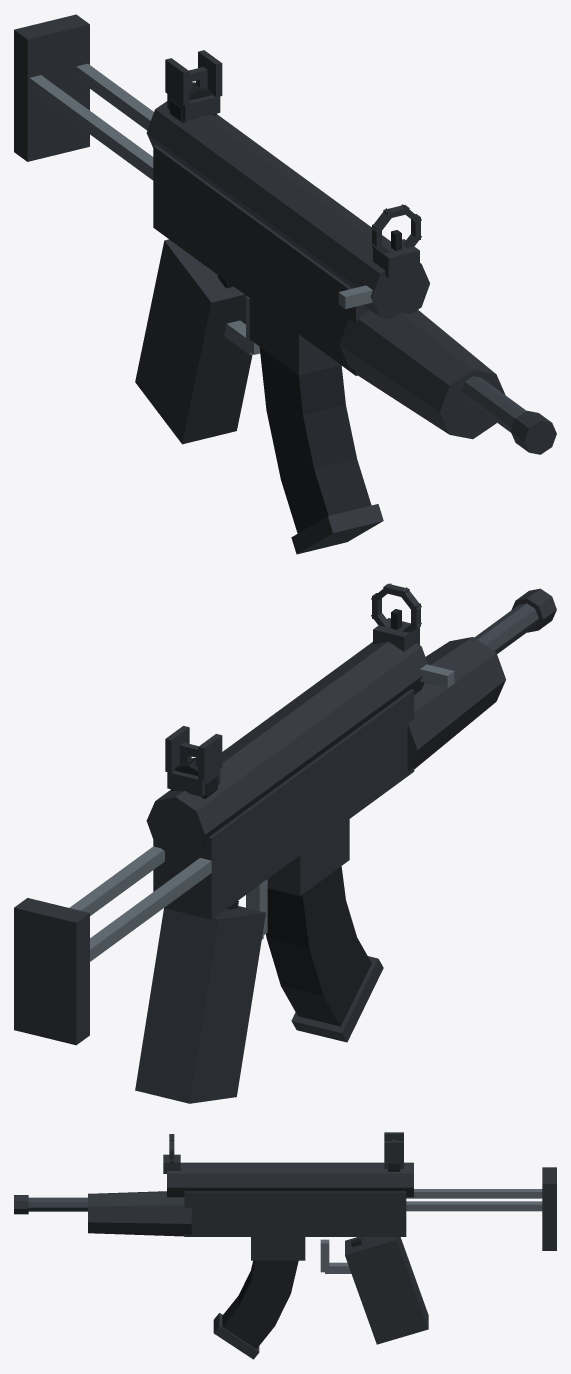
Rendered from wpn_mp5.fbx.
3 views of the same model, one above another, from view 1: azimuth 30°, elevation 25°; view 2: azimuth 150°, elevation 25°; view 3: azimuth 270°, elevation 25° (orthographic). The views are drawn at different scales.
Visible parts, largest first — view 1: wpn_mp5; view 2: wpn_mp5; view 3: wpn_mp5.
Boxes of the visible parts, x1=… form: wpn_mp5: x1=14, y1=14, x2=556, y2=554; wpn_mp5: x1=14, y1=583, x2=556, y2=1103; wpn_mp5: x1=14, y1=1132, x2=556, y2=1359.
Bounding box in the file's own units: 24 × 96.8 × 220.
